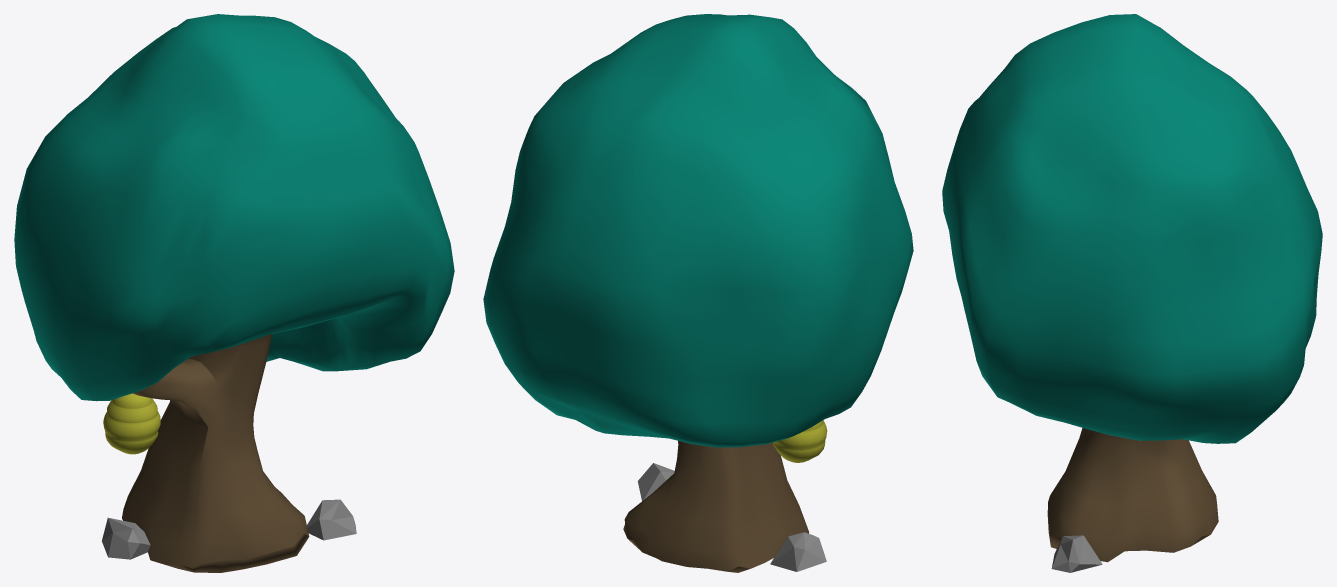
The model's file is Tree_04.fbx.
3 views of the same model, side by side, from view 1: azimuth 30°, elevation 25°; view 2: azimuth 150°, elevation 25°; view 3: azimuth 270°, elevation 25° (orthographic). The views are drawn at different scales.
Parts seen in each view (by area): view 1: Leaves, Trunk_new, pCylinder1, pPlatonic10, pPlatonic9; view 2: Leaves, Trunk_new, pPlatonic10, pCylinder1, pPlatonic9; view 3: Leaves, Trunk_new, pPlatonic9.
Boxes of the visible parts, bbox=[...] form: Leaves: bbox=[14, 14, 454, 401]; Trunk_new: bbox=[122, 334, 309, 572]; pCylinder1: bbox=[103, 393, 160, 454]; pPlatonic10: bbox=[102, 517, 150, 559]; pPlatonic9: bbox=[307, 499, 356, 540]; Leaves: bbox=[483, 14, 913, 447]; Trunk_new: bbox=[623, 441, 809, 572]; pPlatonic10: bbox=[770, 532, 826, 571]; pCylinder1: bbox=[773, 420, 827, 462]; pPlatonic9: bbox=[637, 463, 674, 500]; Leaves: bbox=[942, 14, 1322, 443]; Trunk_new: bbox=[1047, 428, 1218, 562]; pPlatonic9: bbox=[1051, 535, 1102, 572].
Bounding box in the file's own units: 8.46 × 11.74 × 7.94.
